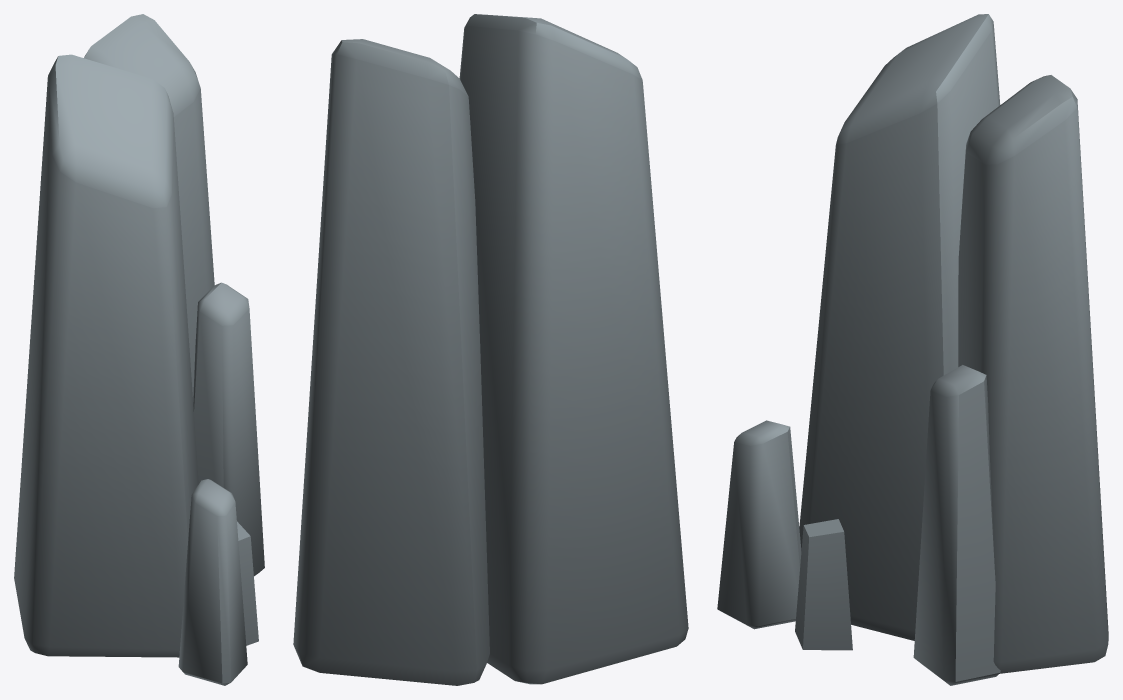
Rendered from Rock_4_G_Color1.gltf.
The picture shows the model from 3 angles, left to right: view 1: azimuth 30°, elevation 25°; view 2: azimuth 150°, elevation 25°; view 3: azimuth 270°, elevation 25°; orthographic projection. The views are drawn at different scales.
Parts seen in each view (by area): view 1: Rock_4_G_Color1; view 2: Rock_4_G_Color1; view 3: Rock_4_G_Color1.
Boxes of the visible parts, <box> form: Rock_4_G_Color1: <box>14,14,264,685</box>; Rock_4_G_Color1: <box>293,14,688,685</box>; Rock_4_G_Color1: <box>717,14,1108,685</box>.
Bounding box in the file's own units: 1.74 × 3.41 × 2.09.
1 material, 1 textured.
